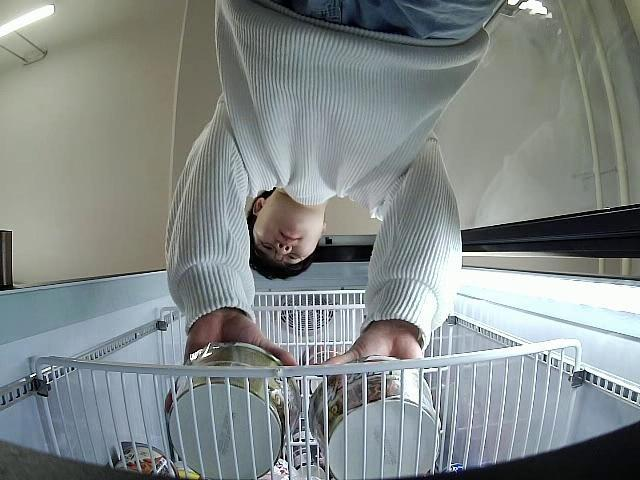03_chapagetti_L: (168, 342, 302, 480), (308, 357, 441, 480)
